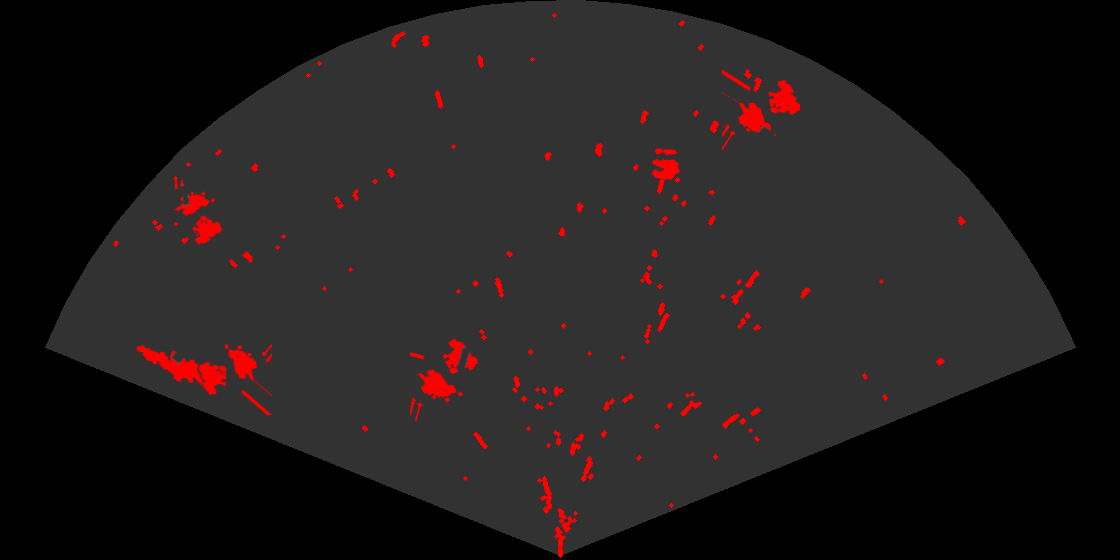ball: (650, 147, 681, 181)
cage: (722, 68, 802, 152), (410, 337, 480, 421), (197, 342, 272, 415), (174, 180, 224, 247)
frogman: (135, 343, 211, 397)
